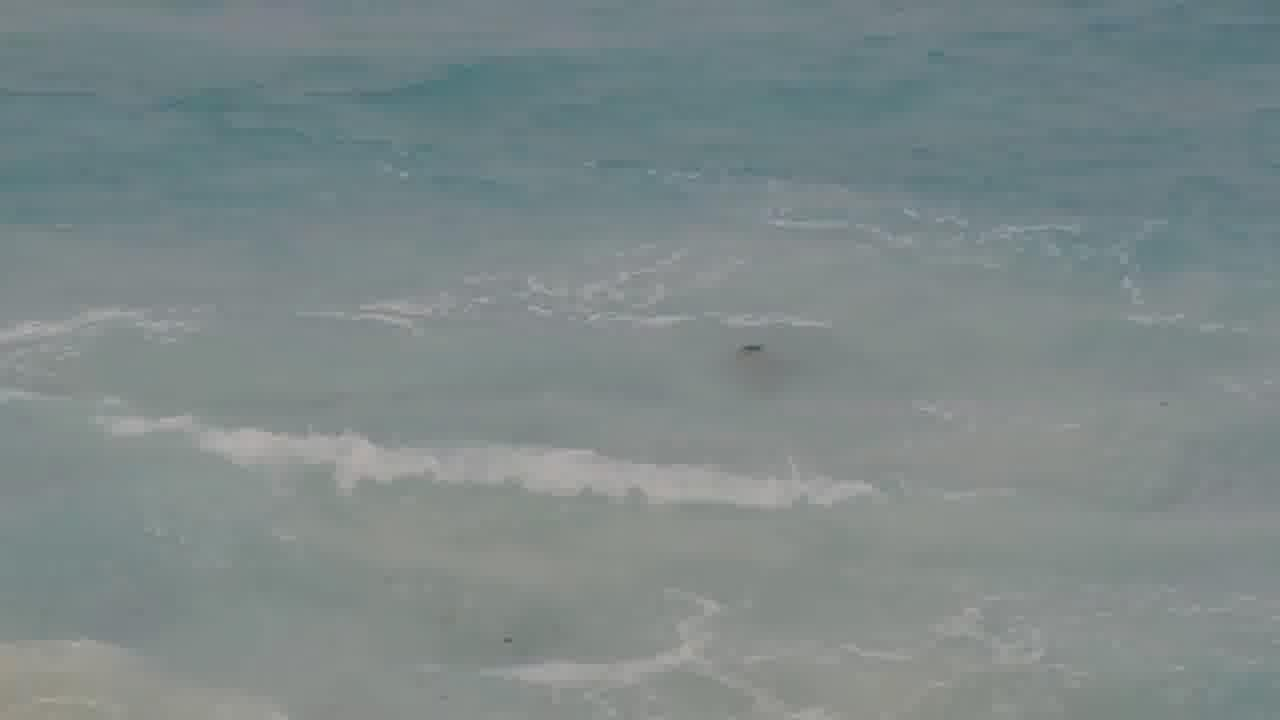swimmer: (731, 334, 778, 372)
